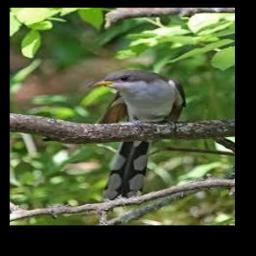Cuckoo: (88, 68, 185, 199)
